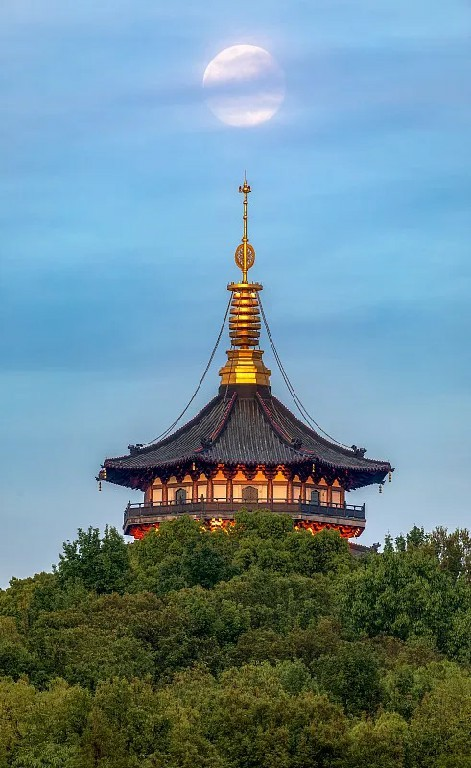Leifeng: (94, 168, 396, 557)
